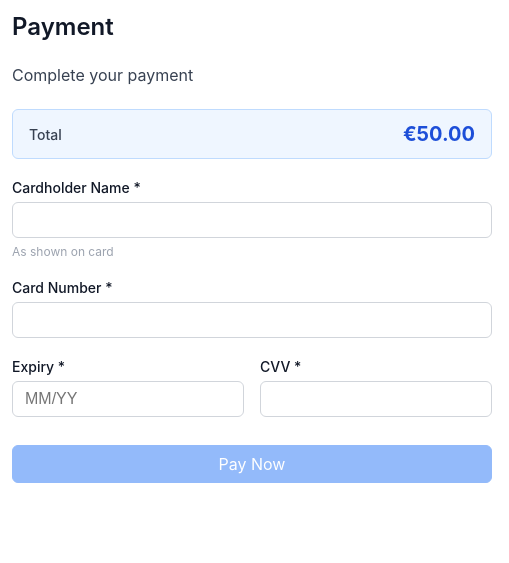
PaymentStepComponent › Payment error (network failure) › should use fallback message when error has no message
Step 1. Type "John Doe" into the field with id "cardholderName" → x=252, y=220, box [12,202,492,238]
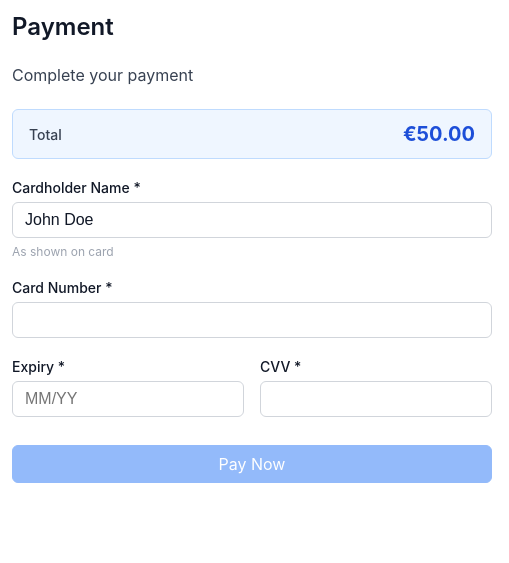
Step 2. Type "4111111111111111" into the field with id "cardNumber" → x=252, y=320, box [12,302,492,338]
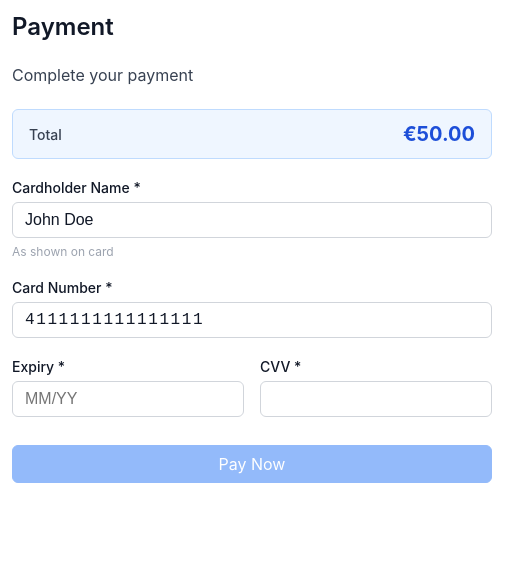
Step 3. Type "12/27" into the field with id "expiryDate" → x=128, y=399, box [12,381,244,417]
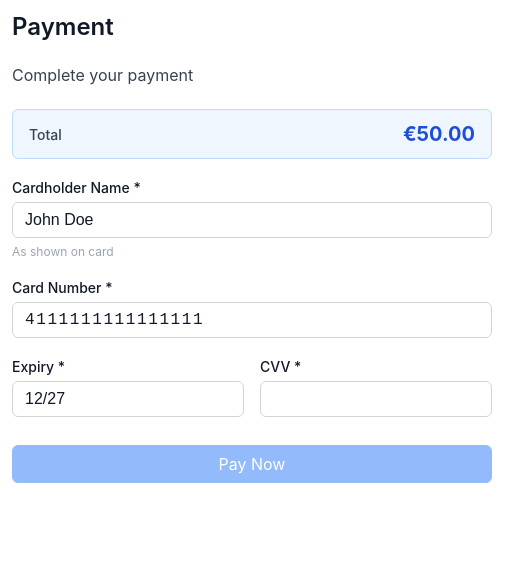
Step 4. Type "123" into the field with id "cvv" → x=376, y=399, box [260,381,492,417]
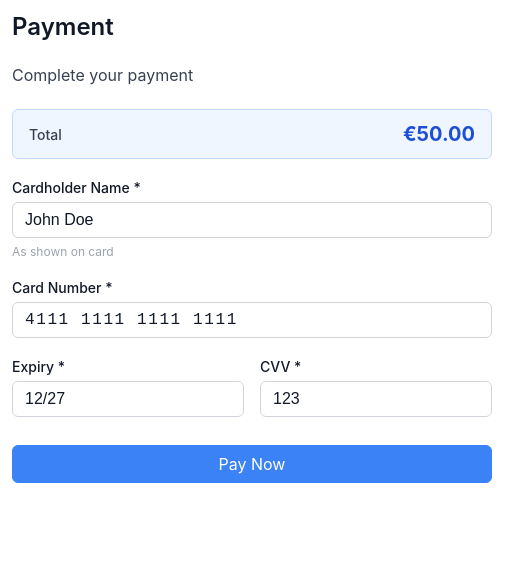
Step 5. Submit the form
Wait 100 ms
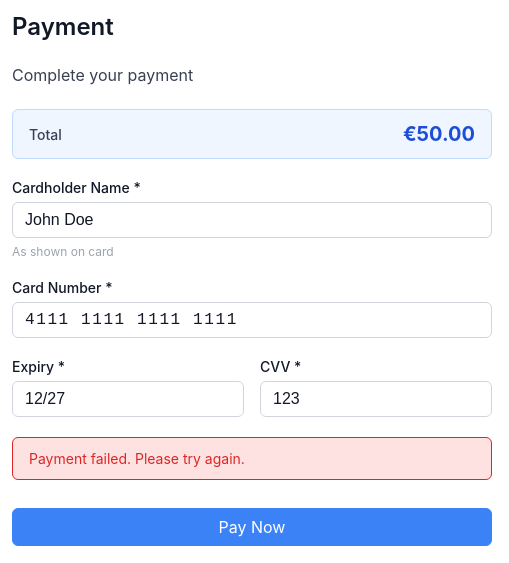
Result: the message "Payment failed. Please try again." is shown at [12,437,492,480]
